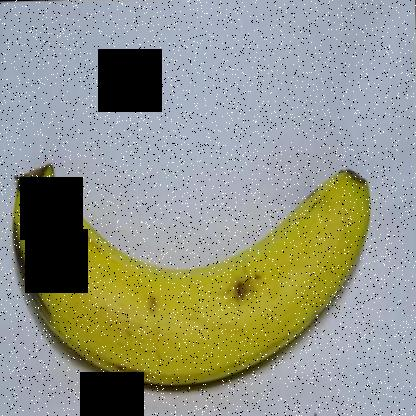freshripe: (5, 138, 384, 390)
